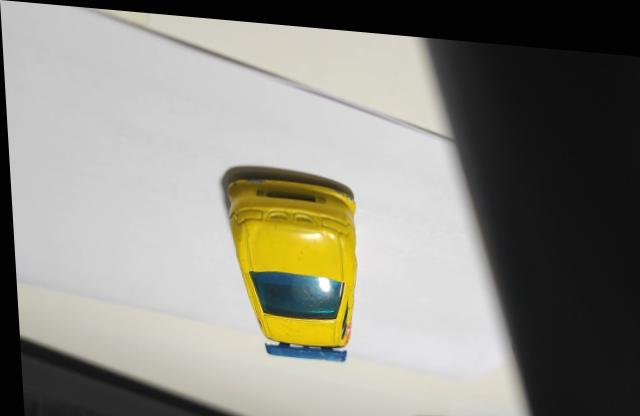02_OZSOME: (224, 172, 354, 356)
